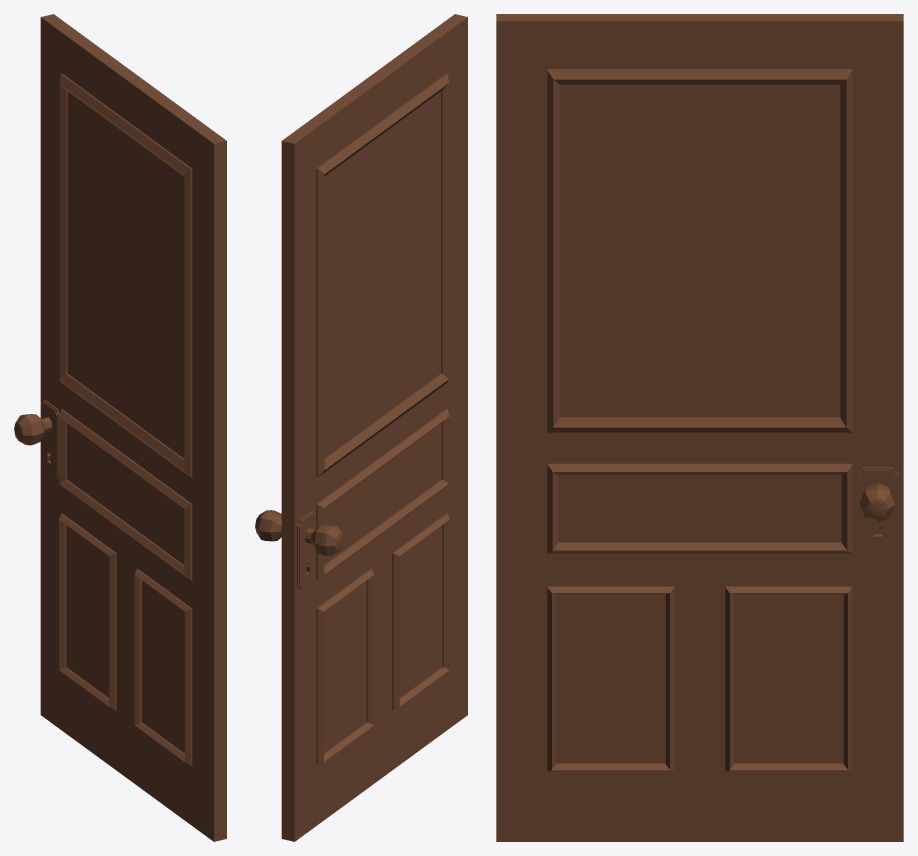
The model's file is Door2.fbx.
3 renders of one model, left to right at view 1: azimuth 30°, elevation 25°; view 2: azimuth 150°, elevation 25°; view 3: azimuth 270°, elevation 25°, orthographic. The views are drawn at different scales.
Visible parts, largest first — view 1: Porta; view 2: Porta; view 3: Porta.
Part boxes in pixels (x1,y1,x2,y2): Porta: (14, 14, 226, 841); Porta: (255, 14, 467, 841); Porta: (496, 14, 903, 841).
Bounding box in the file's own units: 49.13 × 400 × 180.
